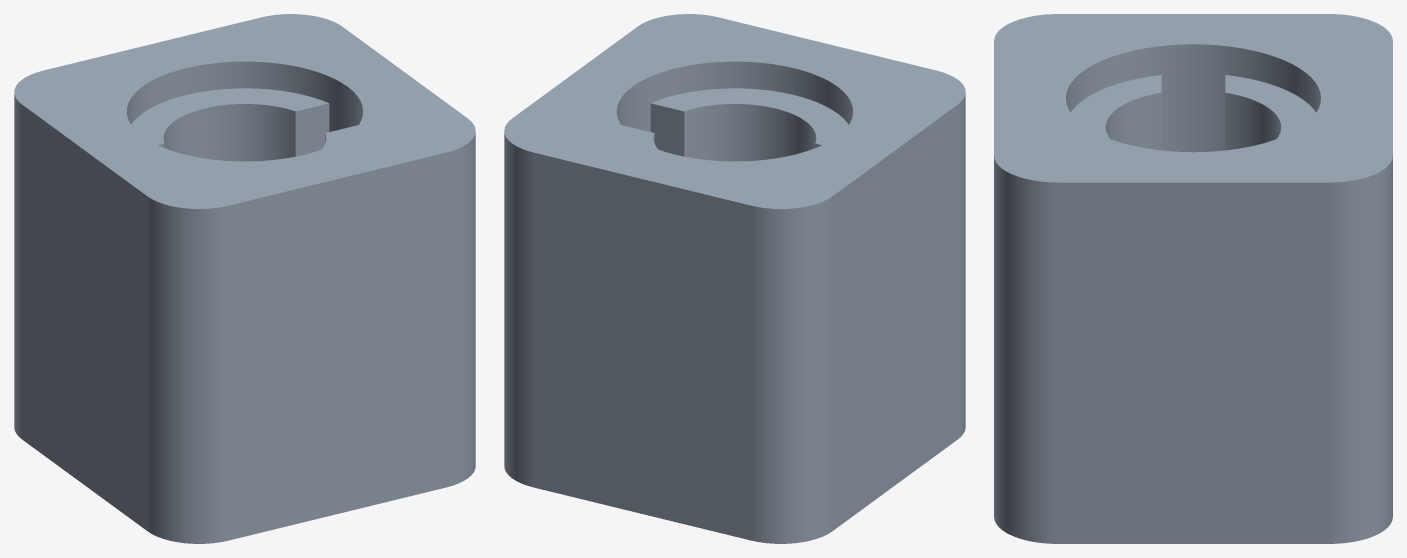
File: reactor.obj
3 renders of one model, left to right at view 1: azimuth 30°, elevation 25°; view 2: azimuth 150°, elevation 25°; view 3: azimuth 270°, elevation 25°, orthographic. The views are drawn at different scales.
Visible parts, largest first — view 1: 1; view 2: 1; view 3: 1.
Part boxes in pixels (box(x1,y1,x2,y2)): 1: box(14, 14, 475, 543); 1: box(504, 14, 965, 543); 1: box(994, 14, 1392, 543).
Size of the model in its own units: 25 by 25 by 25.
